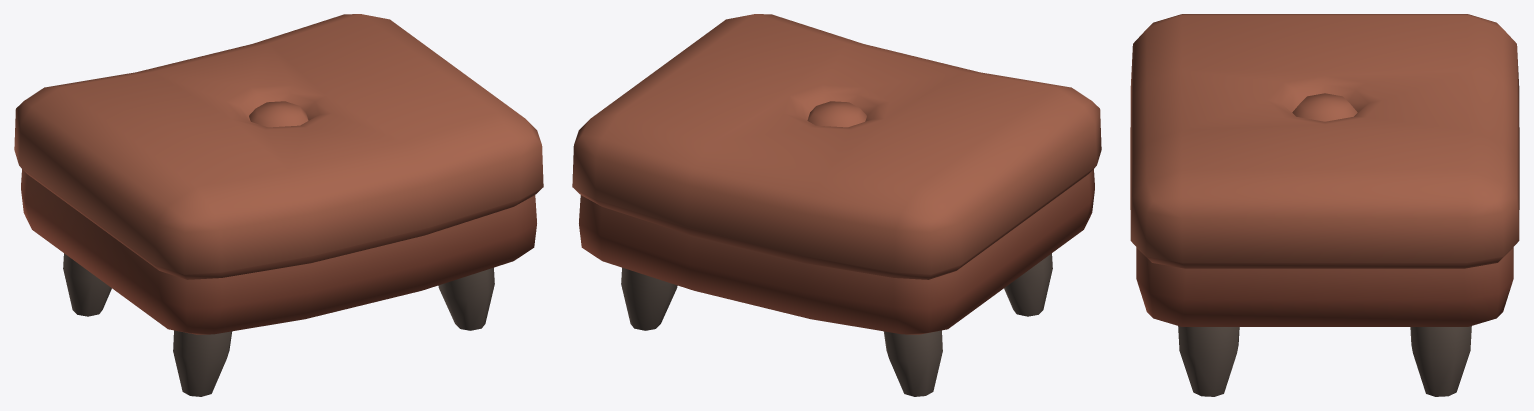
Rendered from footstool_brown.glb.
3 renders of one model, left to right at view 1: azimuth 30°, elevation 25°; view 2: azimuth 150°, elevation 25°; view 3: azimuth 270°, elevation 25°, orthographic. The views are drawn at different scales.
Visible parts, largest first — view 1: footstool_brown; view 2: footstool_brown; view 3: footstool_brown.
Boxes of the visible parts, box(x1,y1,x2,y2) form: footstool_brown: box(14, 14, 543, 396); footstool_brown: box(572, 14, 1101, 396); footstool_brown: box(1130, 14, 1519, 396).
Bounding box in the file's own units: 0.8249 × 0.4445 × 0.688.
Materials: 1 (1 with a texture image).
